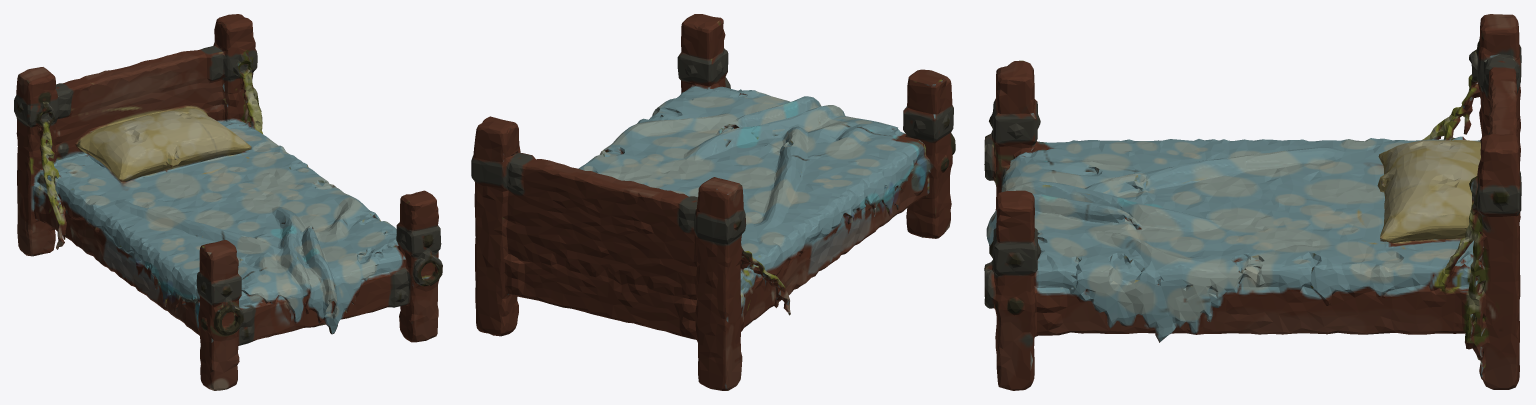
Rendered from cama.glb.
3 views of the same model, side by side, from view 1: azimuth 30°, elevation 25°; view 2: azimuth 150°, elevation 25°; view 3: azimuth 270°, elevation 25° (orthographic). The views are drawn at different scales.
Parts seen in each view (by area): view 1: tmp7kj9kyxp.ply; view 2: tmp7kj9kyxp.ply; view 3: tmp7kj9kyxp.ply.
Part boxes in pixels (x1,y1,x2,y2): tmp7kj9kyxp.ply: (14, 14, 442, 390); tmp7kj9kyxp.ply: (471, 14, 955, 390); tmp7kj9kyxp.ply: (984, 14, 1521, 390).
Bounding box in the file's own units: 1.34 × 0.9812 × 1.96.
1 material, 1 textured.
